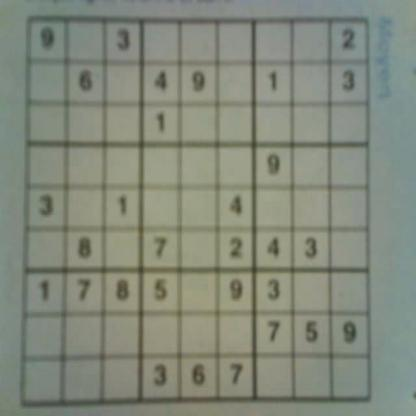sudoku: (15, 9, 376, 410)
